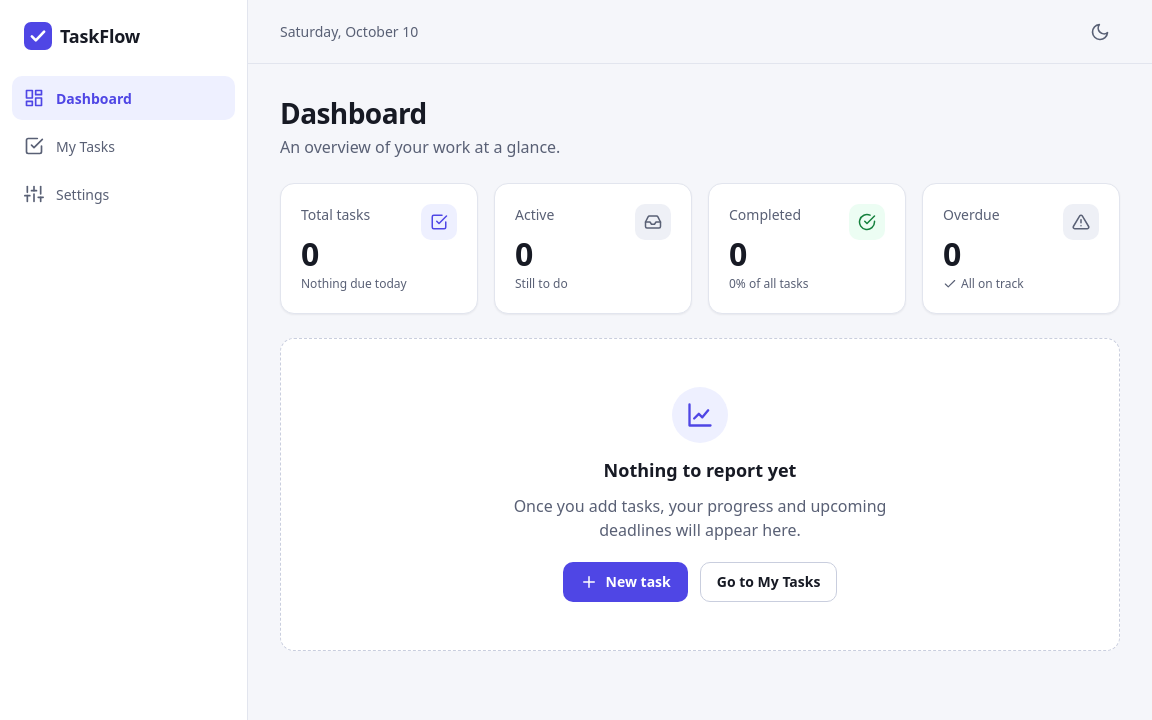
Scenario: navigation › navigates between sections by clicking links
The image size is (1152, 720).
Click the link "My Tasks" at (69, 146), box [24, 136, 115, 156]
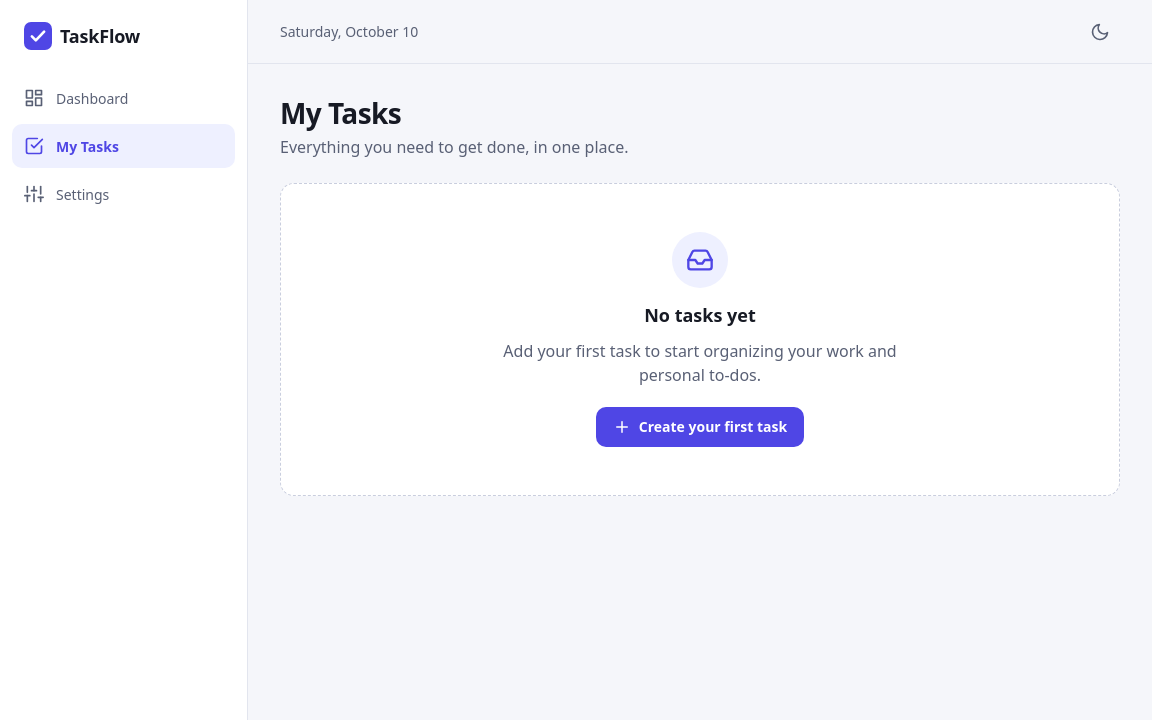
Now the heading "My Tasks" is shown, box [280, 94, 401, 132]
Click the link "Settings" at (67, 194), box [24, 184, 109, 204]
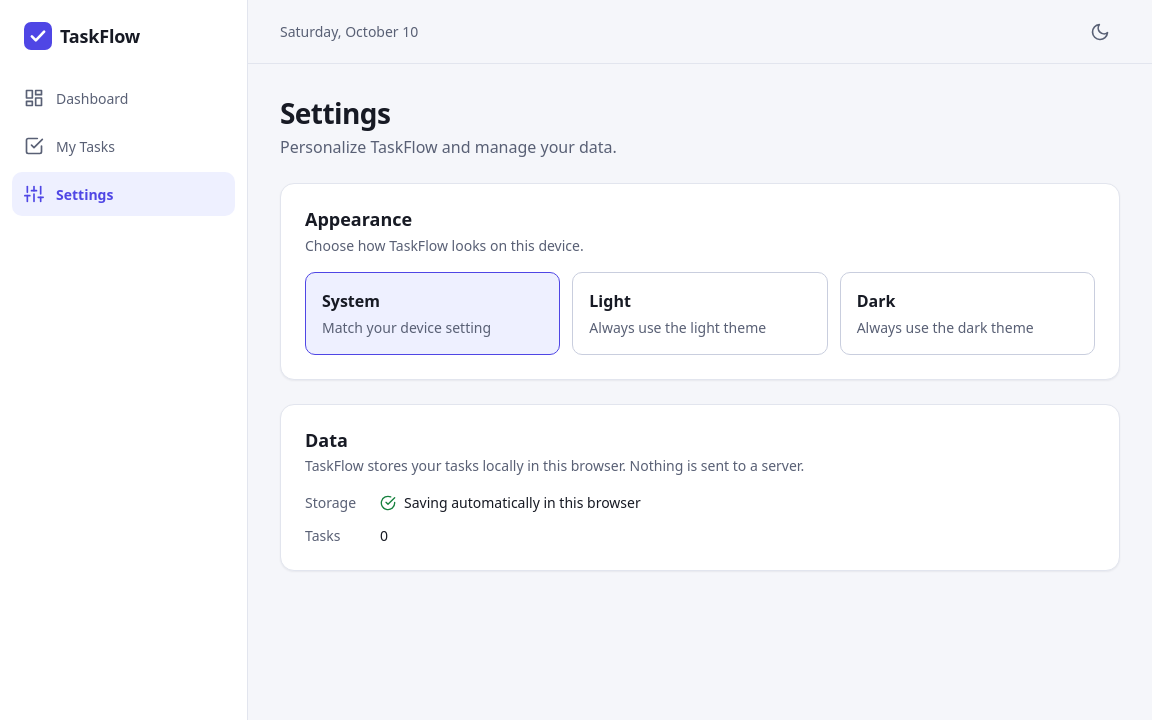
Now the heading "Settings" is shown, box [280, 94, 390, 132]
